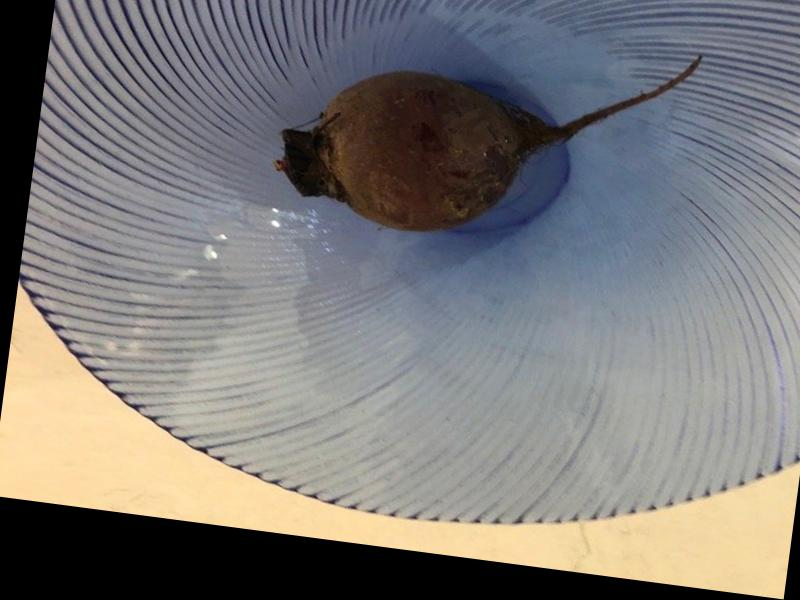Beet: (271, 4, 701, 263)
